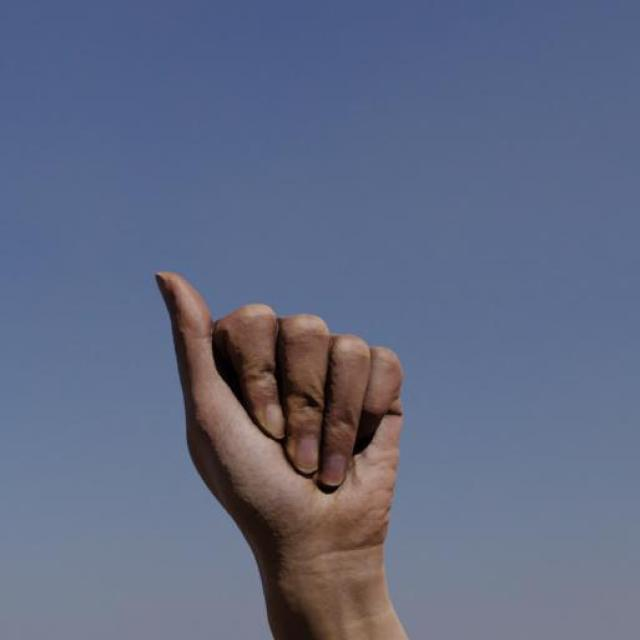A: (152, 261, 413, 554)
